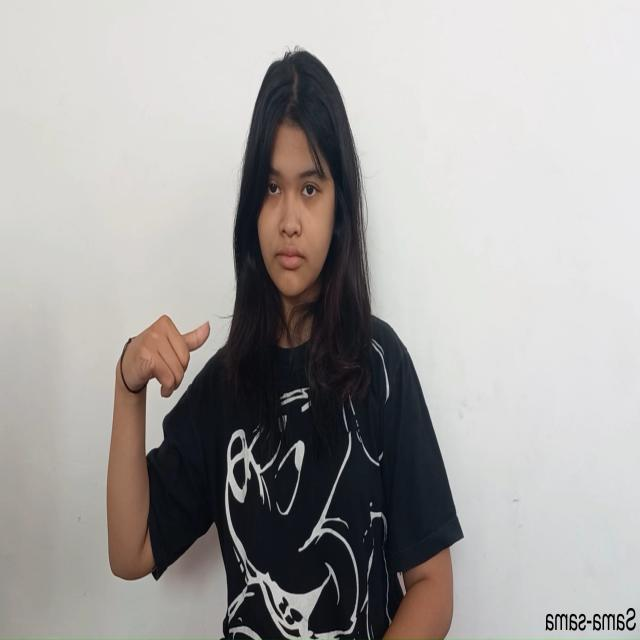Sama-sama -BISINDO-: (113, 313, 211, 402)
